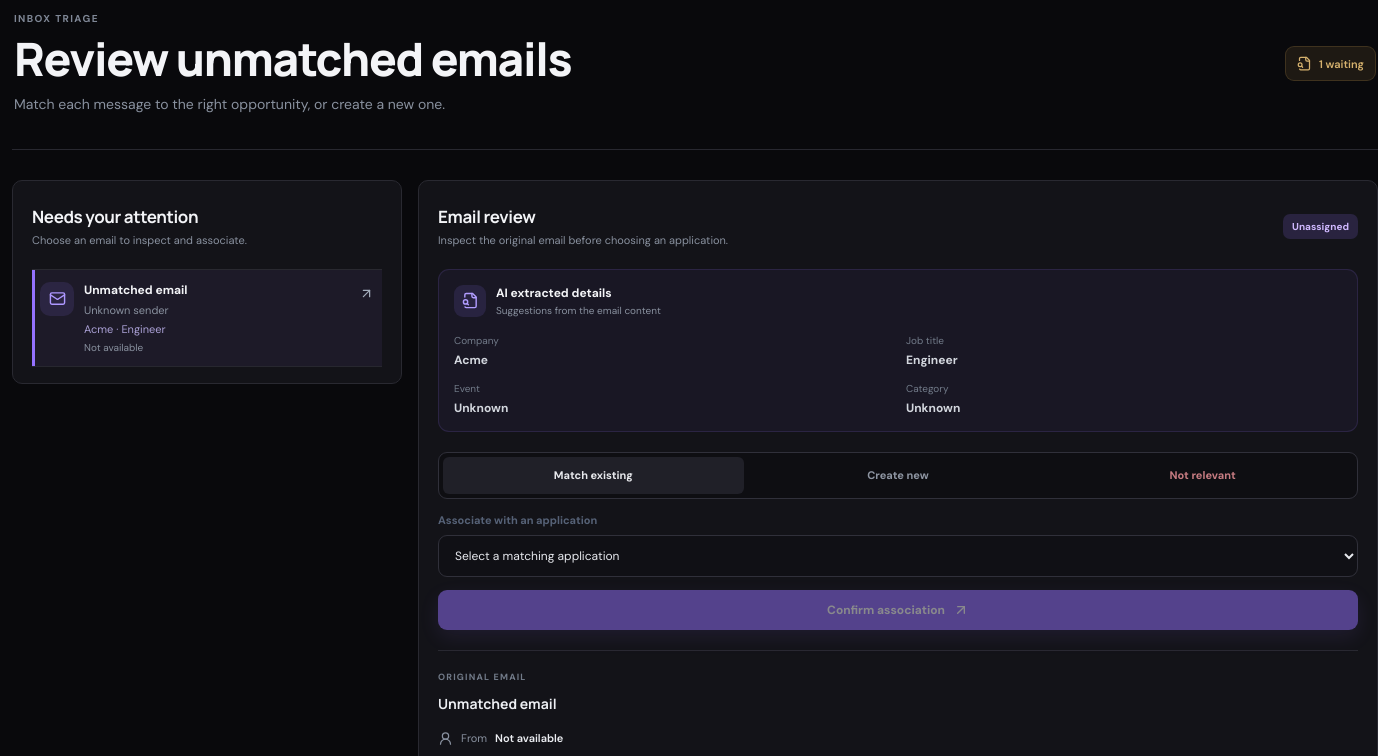
Test: review actions and data refresh › shows an association error without removing the email
Step 1. Select "Acme — Engineer" in the dropdown labelled "Associate with an application" → point(898, 556), box [438,535,1358,577]
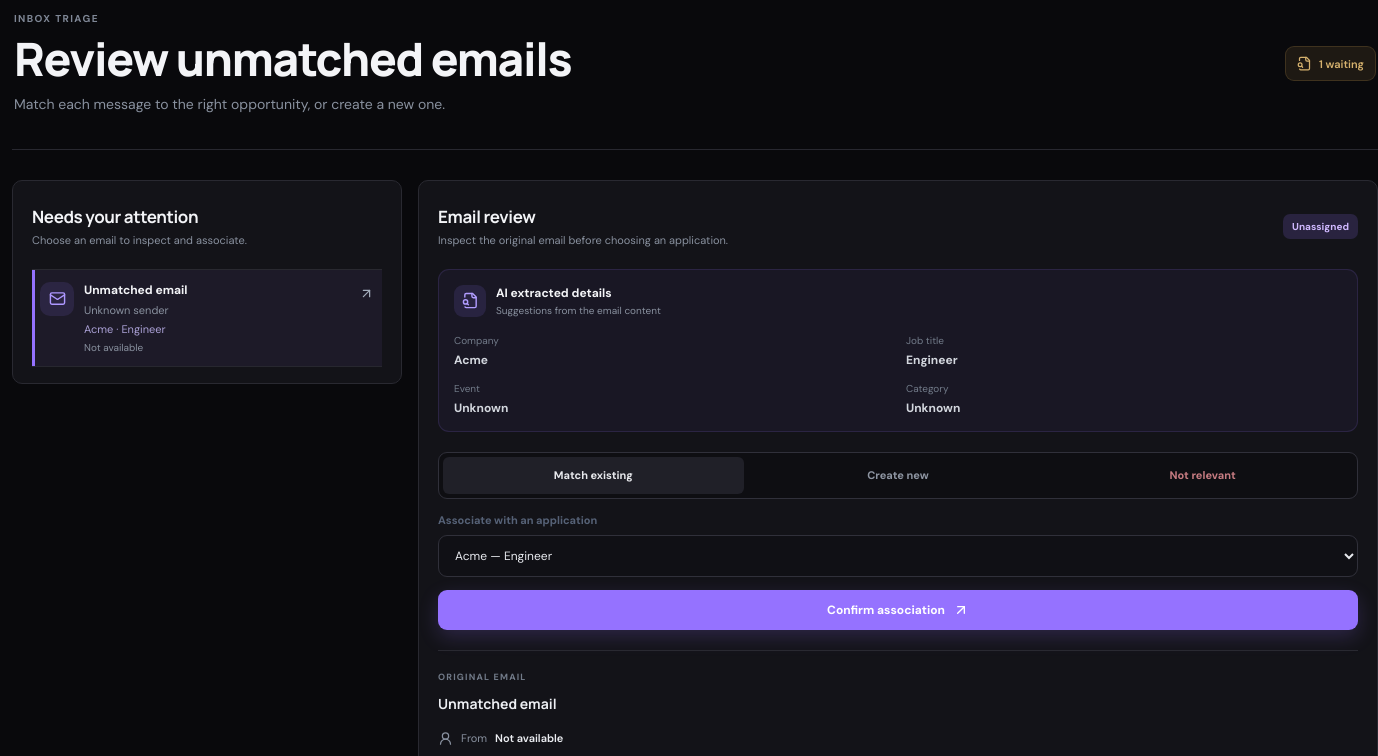
Step 2. Click the button "Confirm association" → point(898, 610), box [438,590,1358,630]
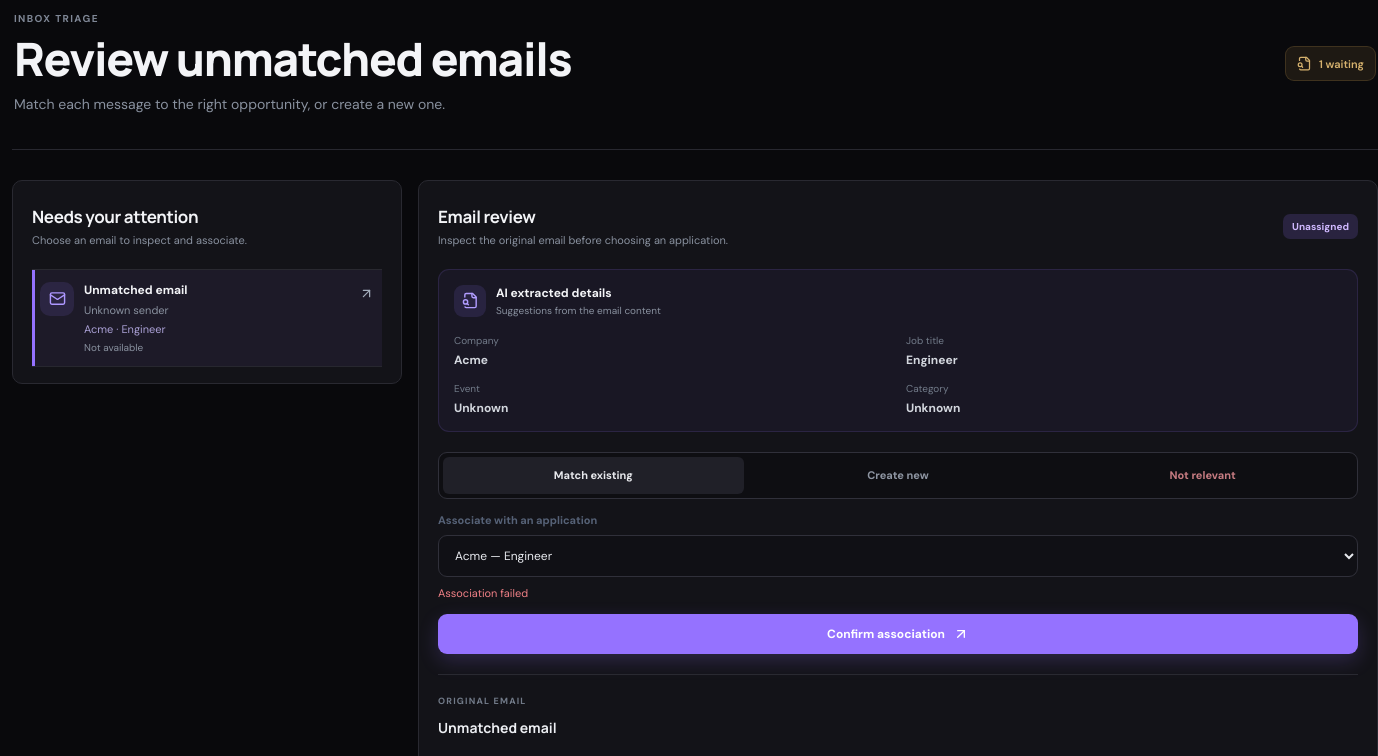
Check: the button "Unmatched email Unknown sender Acme · Engineer Not available" is shown, box [32,270,382,367]
Check: the text "Association failed" is shown, box [438,586,528,600]
